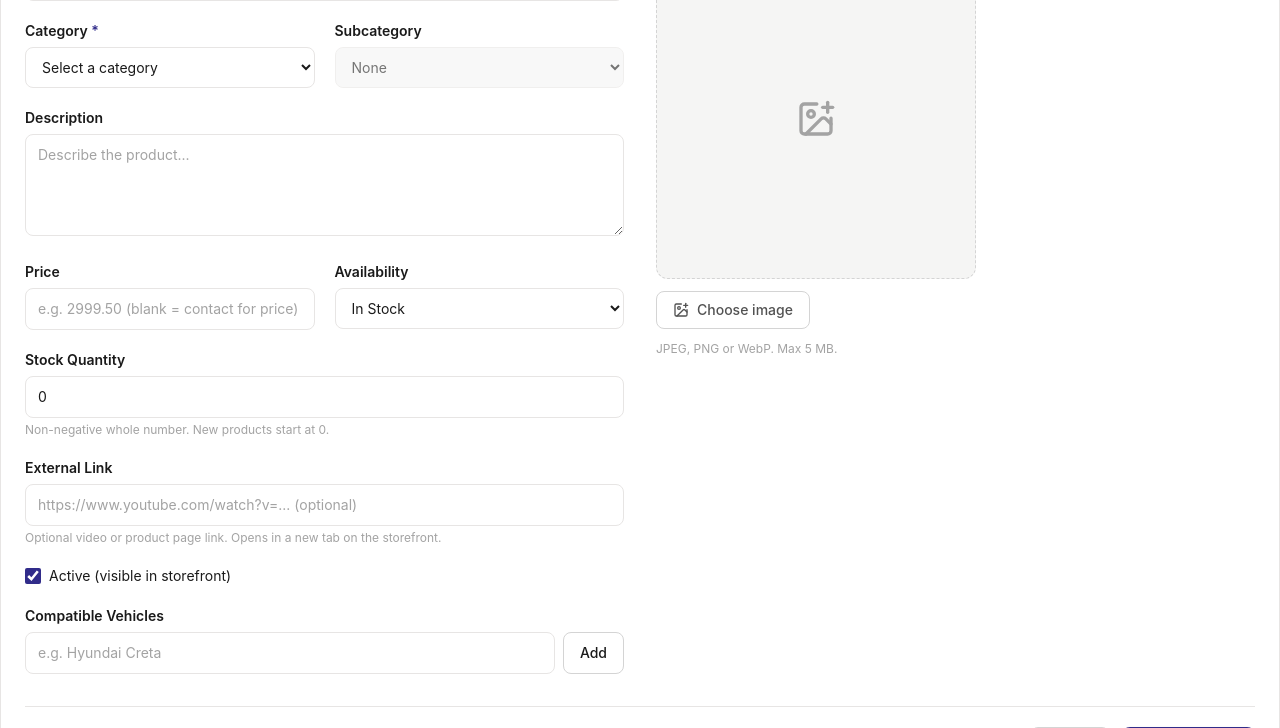
Test: ProductForm edit mode › adds and removes vehicle tags
The width and height of the screenshot is (1280, 728).
(page scrolled)
Type "Honda City" into the field labelled "Compatible Vehicles" at (290, 653), box x1=25 y1=632 x2=555 y2=674
Then press Enter
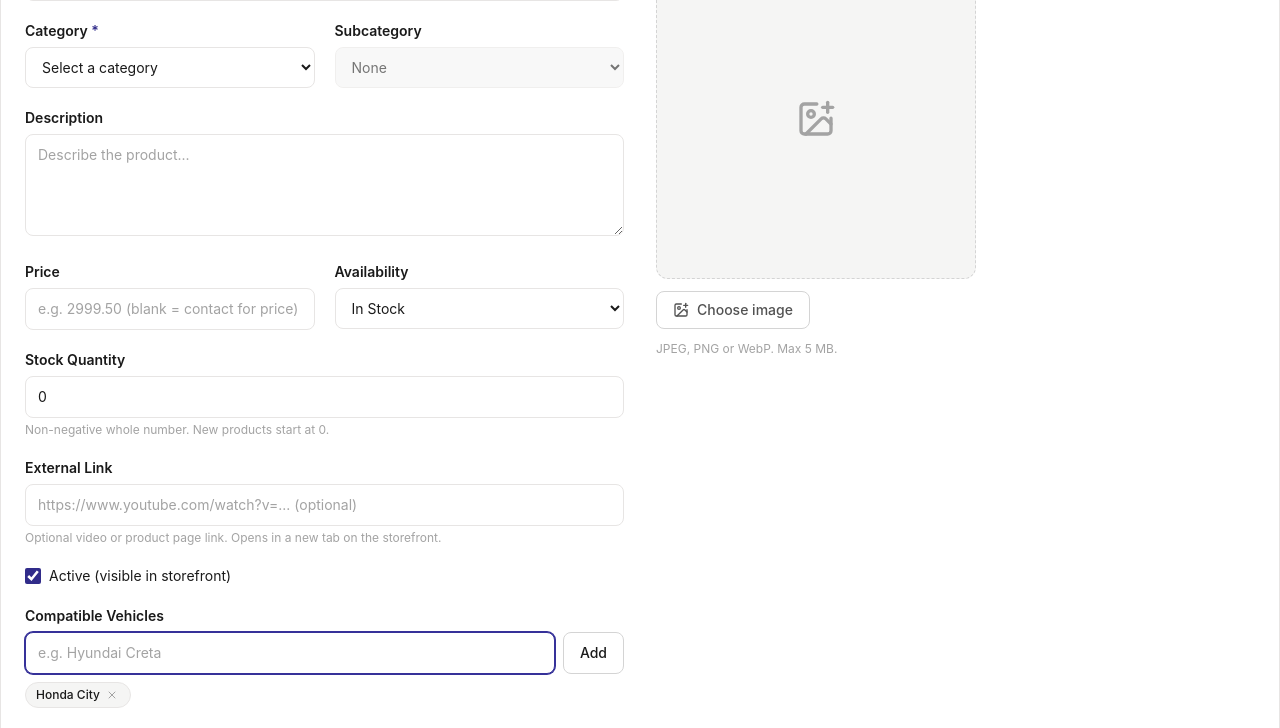
Expected: the list item "Honda City" is shown, x1=25 y1=682 x2=131 y2=708
Click the button named "remove tag honda city" at (112, 695), box x1=104 y1=687 x2=120 y2=703
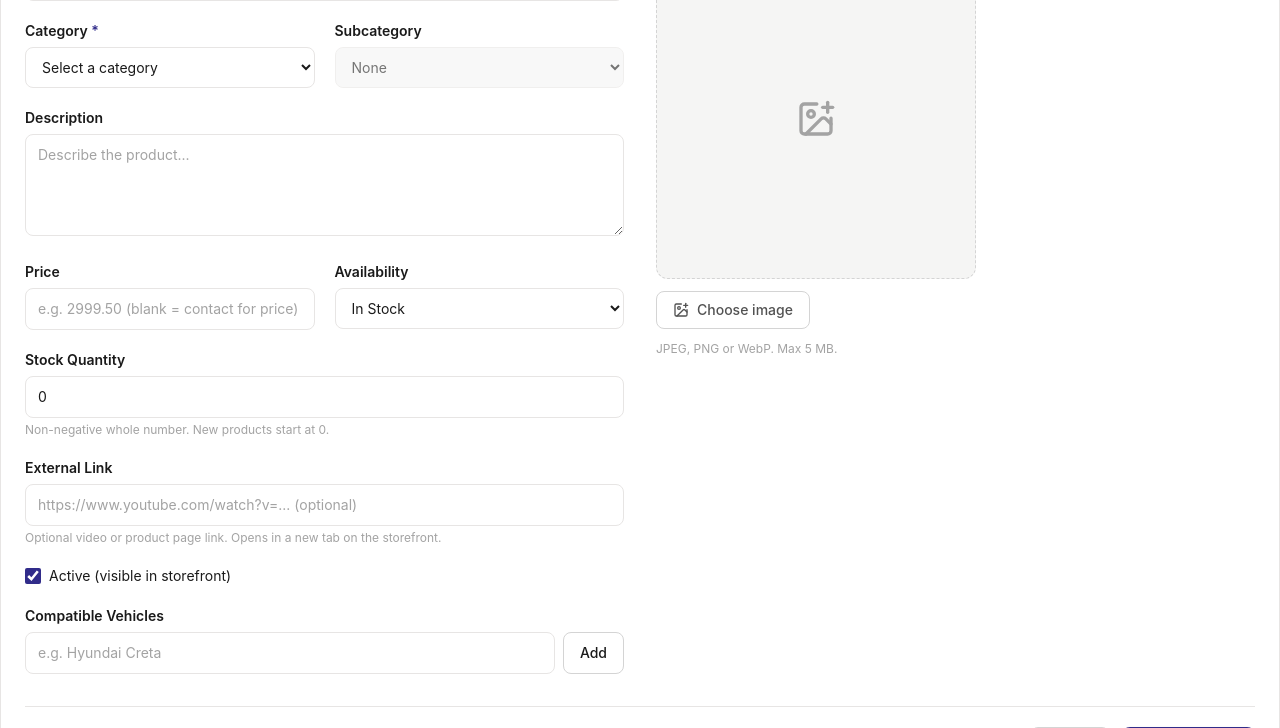
Expected: the list item "Honda City" is gone
